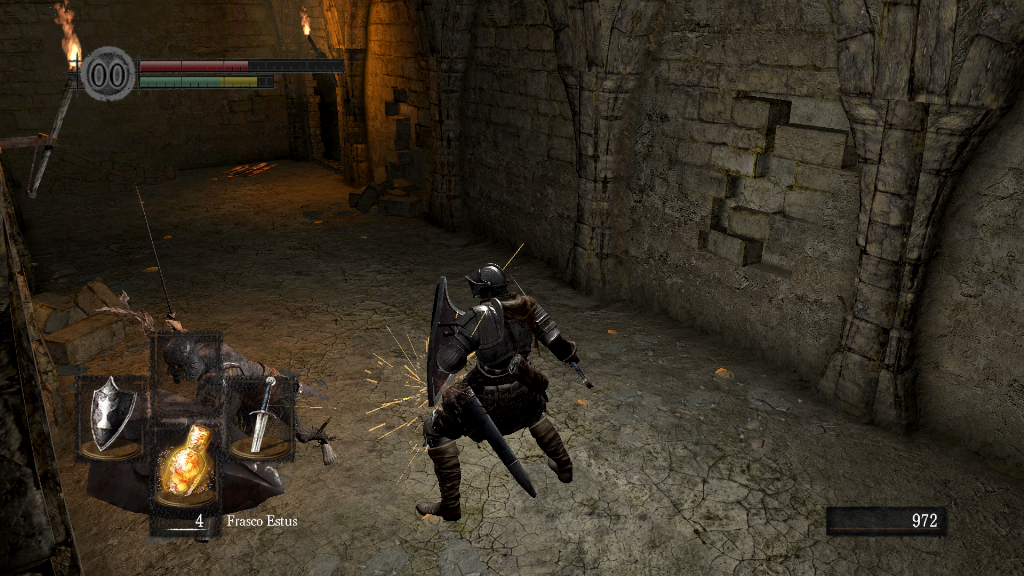health: (138, 58, 343, 71)
humanity: (80, 45, 136, 102)
player: (415, 264, 595, 521)
souls: (825, 506, 945, 536)
stamina: (138, 74, 274, 88)
